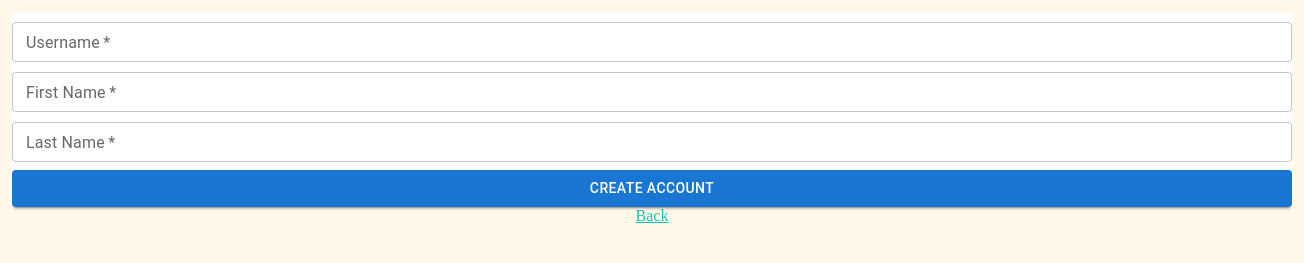
Test: RegisterFormPt2 › shows username taken
Type "user" into the field labelled "Username *".
click(652, 42); type("user")  # box [12, 22, 1292, 62]
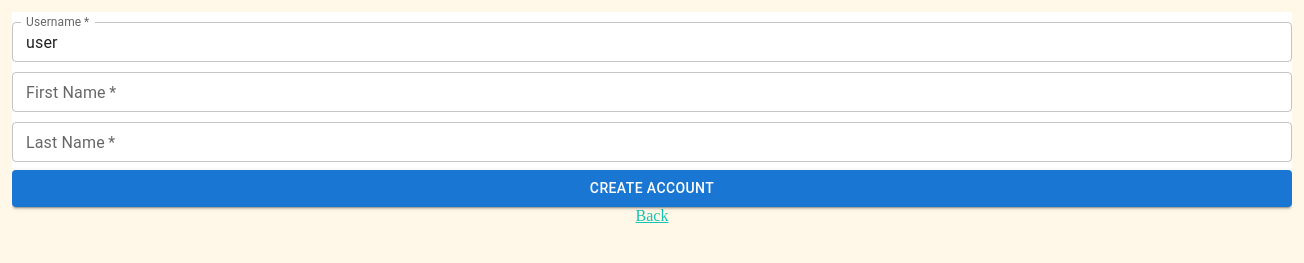
Type "John" into the field labelled "First Name *".
click(652, 92); type("John")  # box [12, 72, 1292, 112]
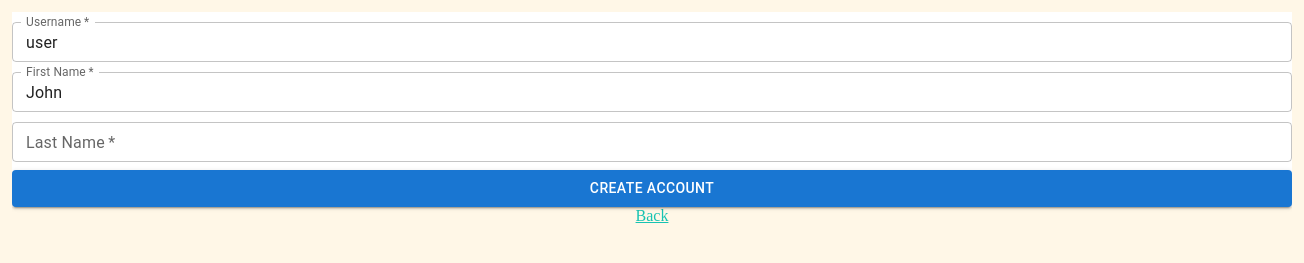
Type "Doe" into the field labelled "Last Name *".
click(652, 142); type("Doe")  # box [12, 122, 1292, 162]
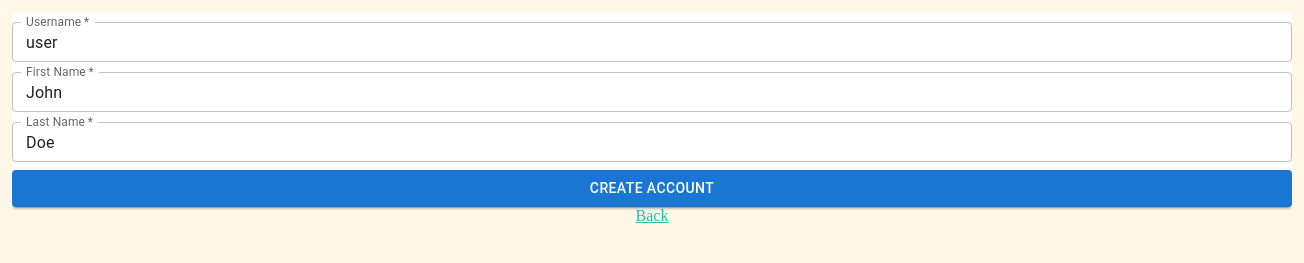
Click the button "Create Account".
click(652, 188)  # box [12, 170, 1292, 206]
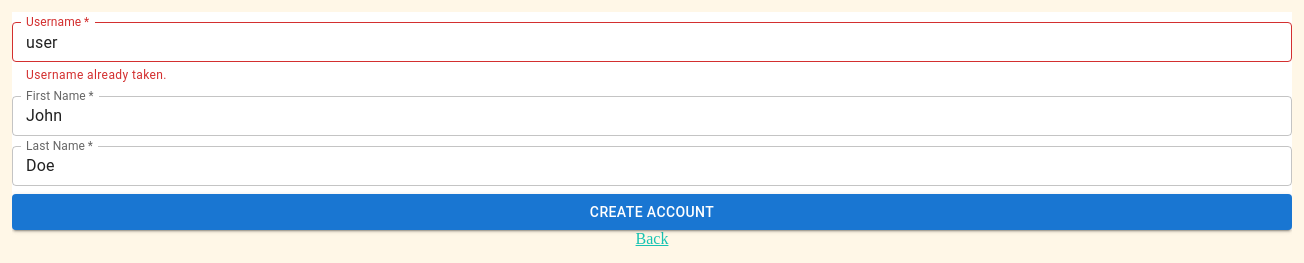
Expected: the text "Username already taken." is shown, [26, 68, 167, 82]
